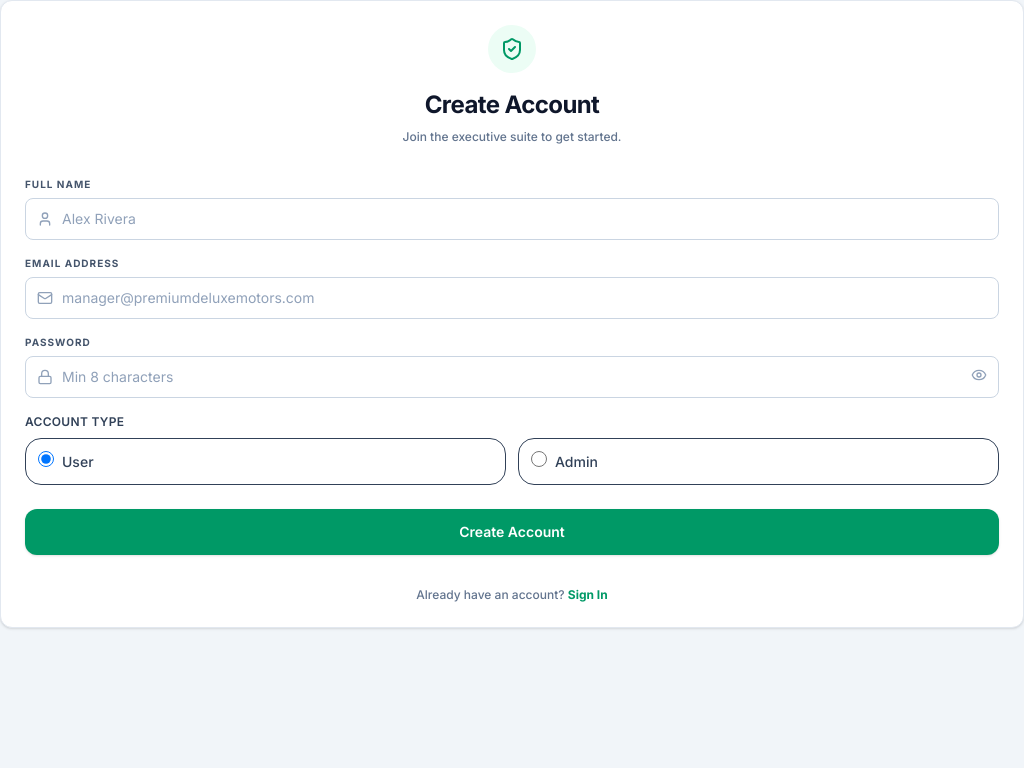
Scenario: RegisterPage › shows a duplicate email error when the service rejects the request
Step 1. Type "Alice Johnson" into the field labelled "FULL NAME" → point(512, 219), box [25, 198, 999, 240]
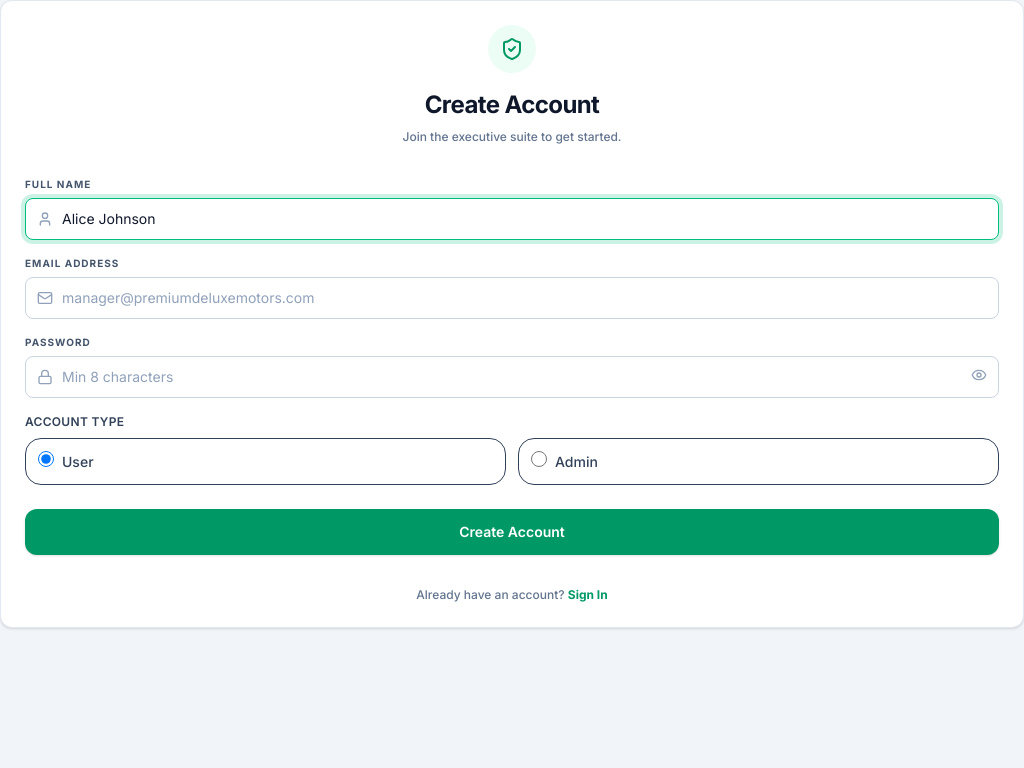
Step 2. Type "error@premiumdeluxemotors.com" into the field labelled "EMAIL ADDRESS" → point(512, 298), box [25, 277, 999, 319]
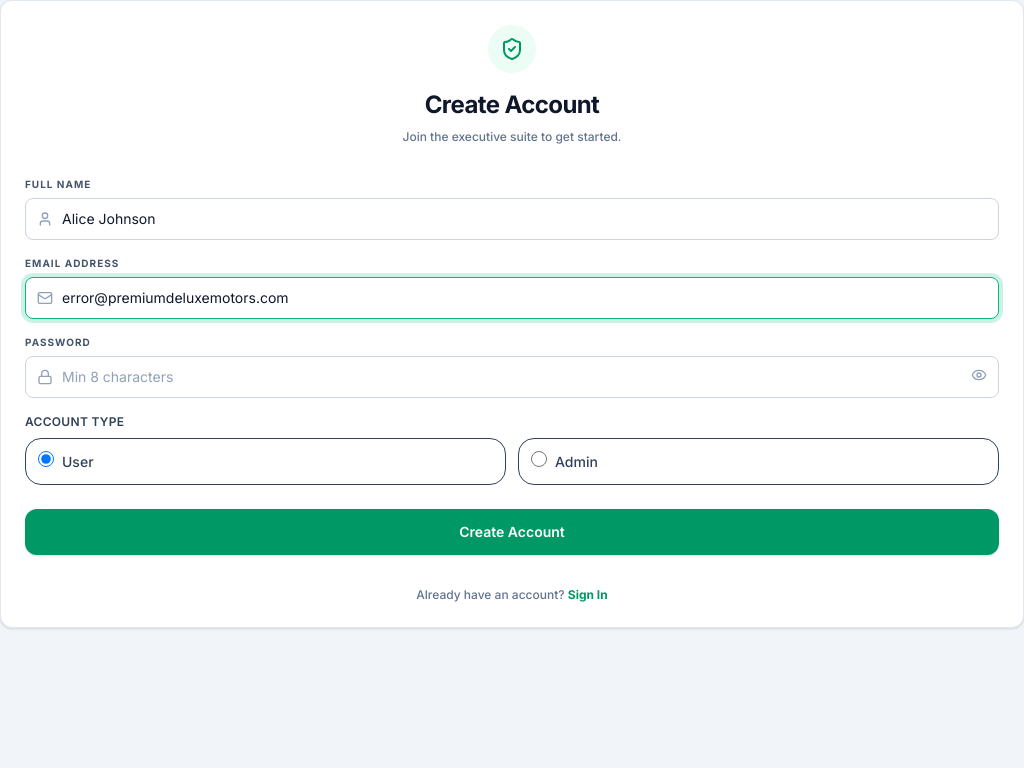
Step 3. Type "strongpassword" into the password field labelled "PASSWORD" → point(512, 377), box [25, 356, 999, 398]
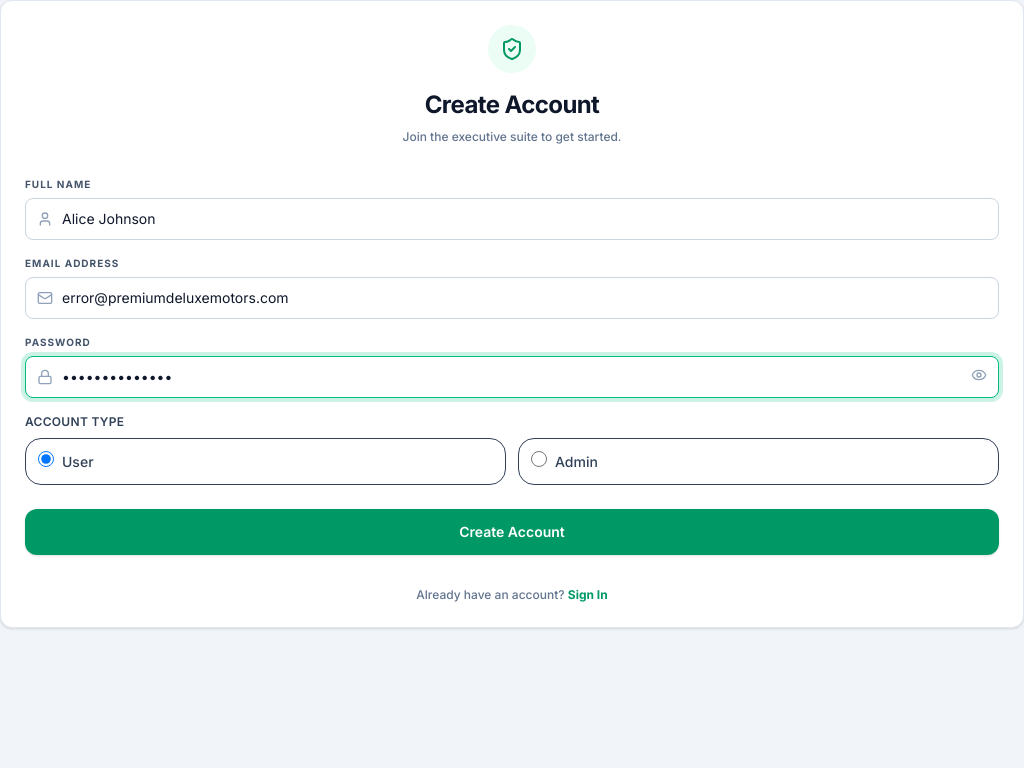
Step 4. Click the button "Create Account" → point(512, 532), box [25, 509, 999, 555]
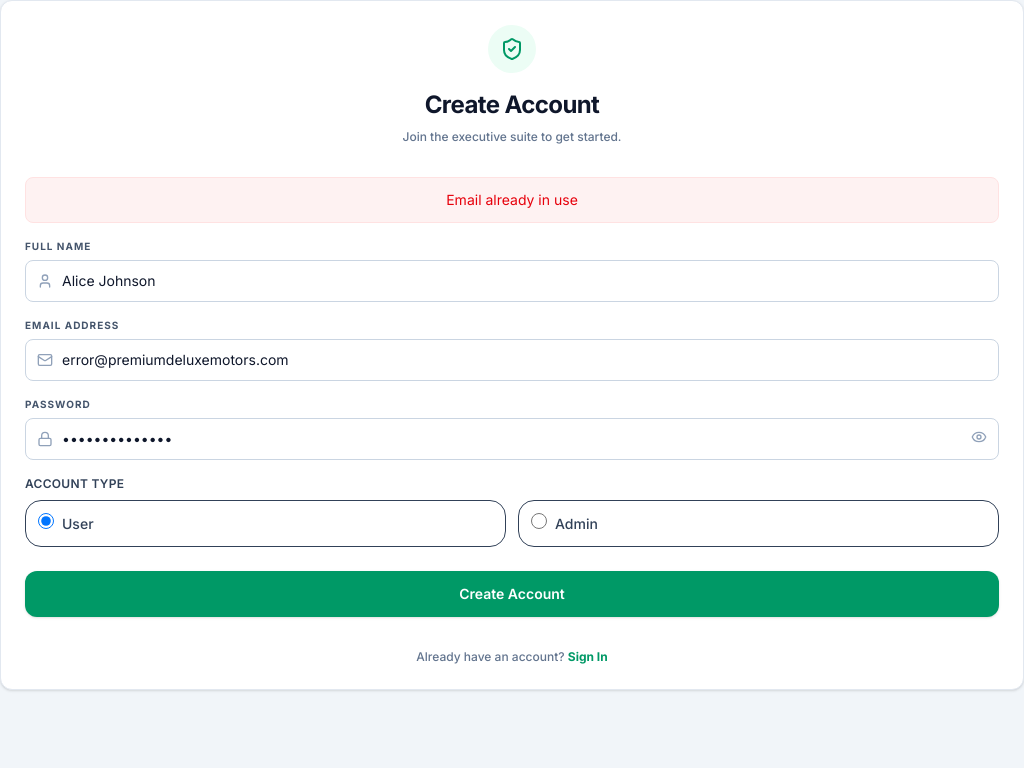
Check: the text "Email already in use" is shown, box [25, 177, 999, 223]
